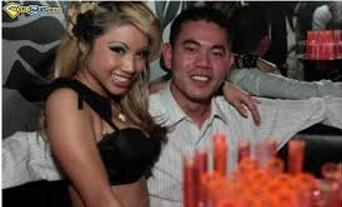Drunk: (175, 23, 228, 98), (99, 26, 146, 95)
